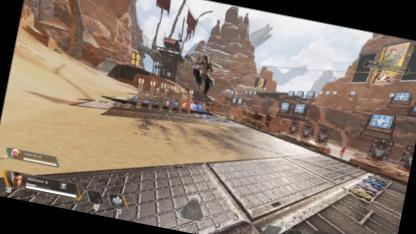Target: (192, 52, 216, 93)
